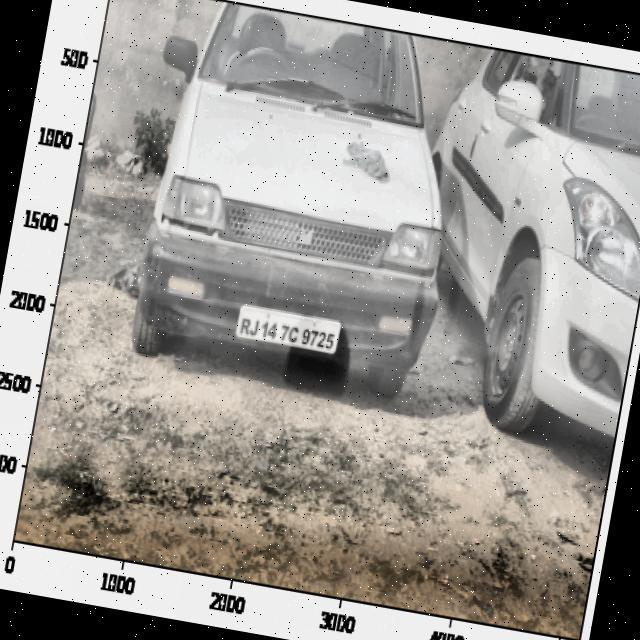license_plate: (235, 304, 342, 353)
